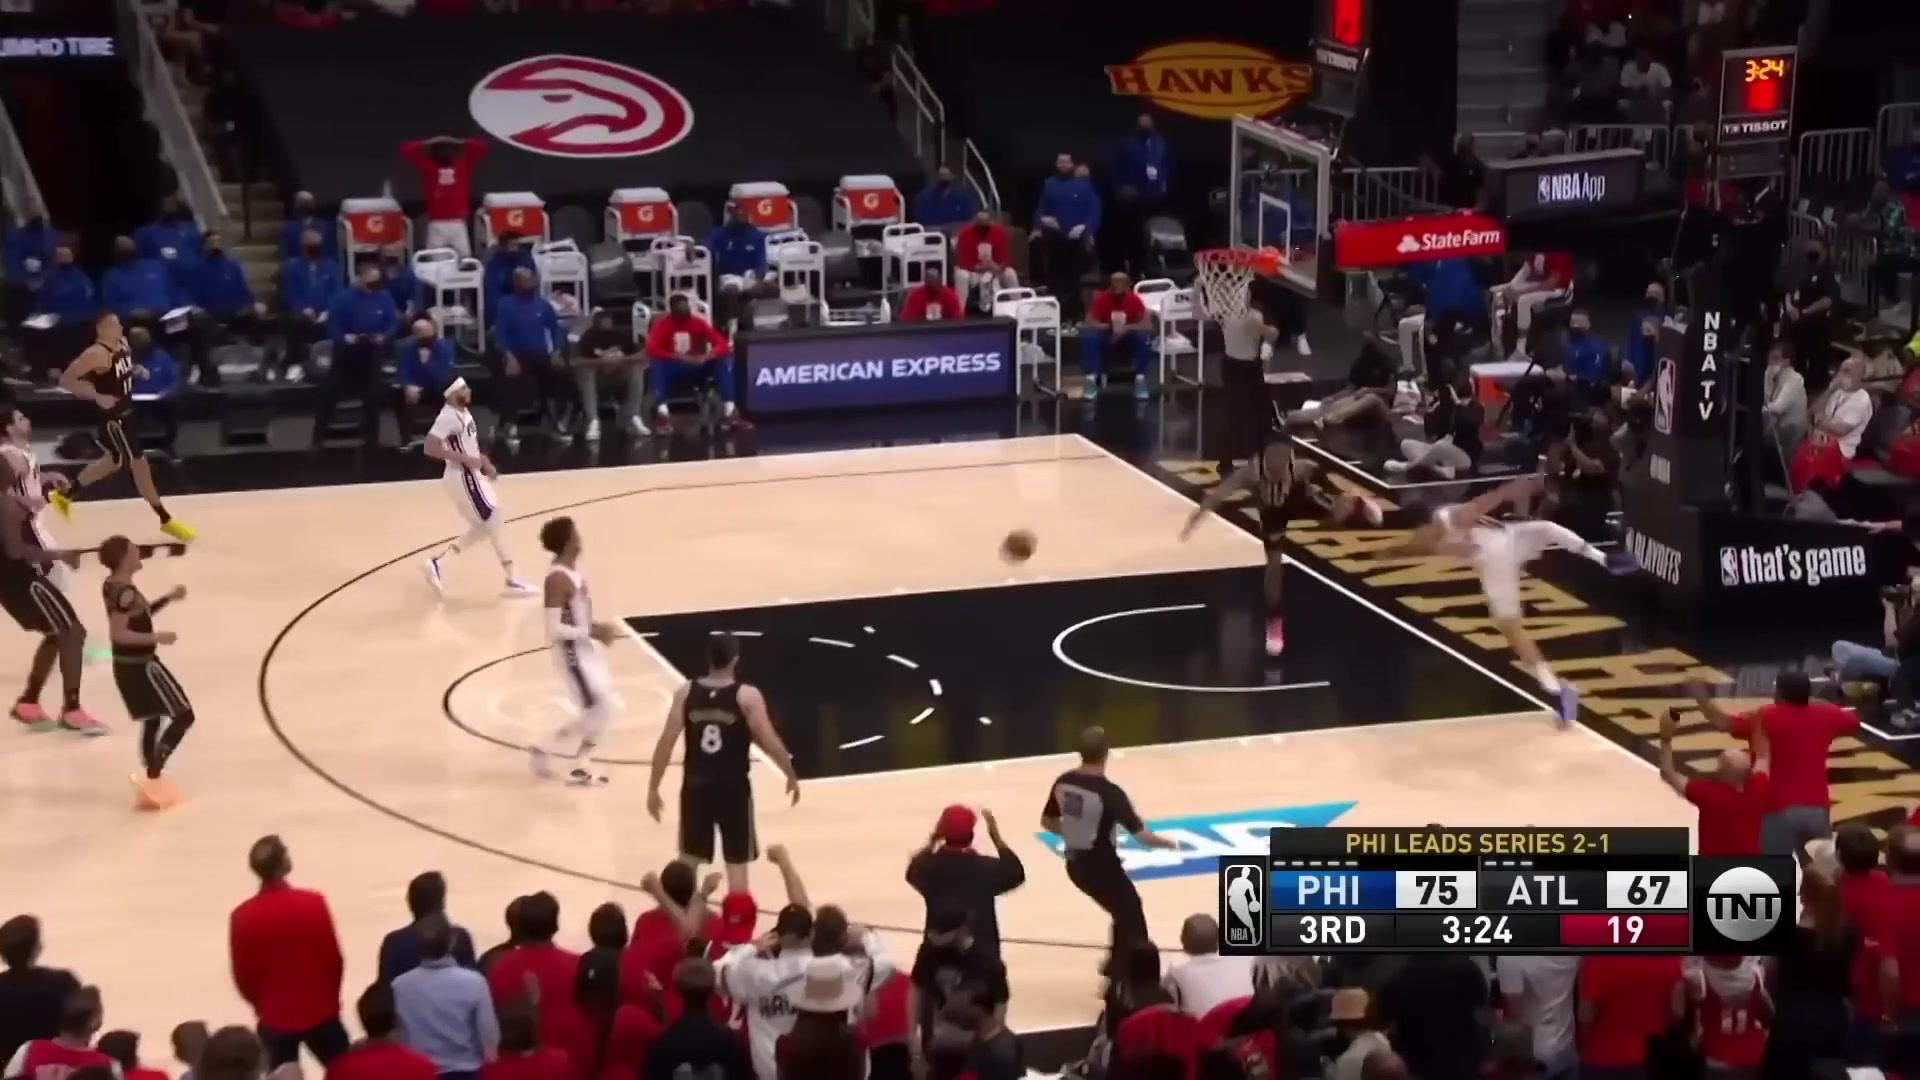no_foul: (1163, 380, 1382, 658)
